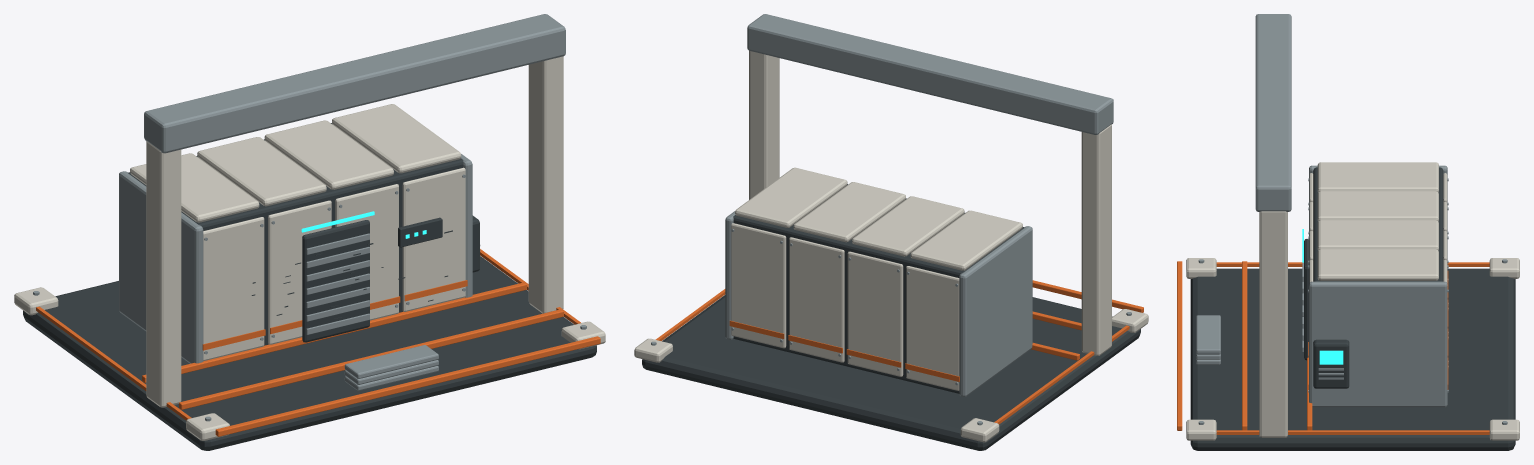
File: SM_DroneMaintenanceBay_Body.fbx
The picture shows the model from 3 angles, left to right: view 1: azimuth 30°, elevation 25°; view 2: azimuth 150°, elevation 25°; view 3: azimuth 270°, elevation 25°; orthographic projection. The views are drawn at different scales.
Visible parts, largest first — view 1: SM_DroneMaintenanceBay_Body; view 2: SM_DroneMaintenanceBay_Body; view 3: SM_DroneMaintenanceBay_Body.
Boxes of the visible parts, bbox=[...] form: SM_DroneMaintenanceBay_Body: bbox=[14, 14, 605, 450]; SM_DroneMaintenanceBay_Body: bbox=[634, 14, 1148, 450]; SM_DroneMaintenanceBay_Body: bbox=[1177, 14, 1519, 450].
Bounding box in the file's own units: 572 × 475 × 410.
